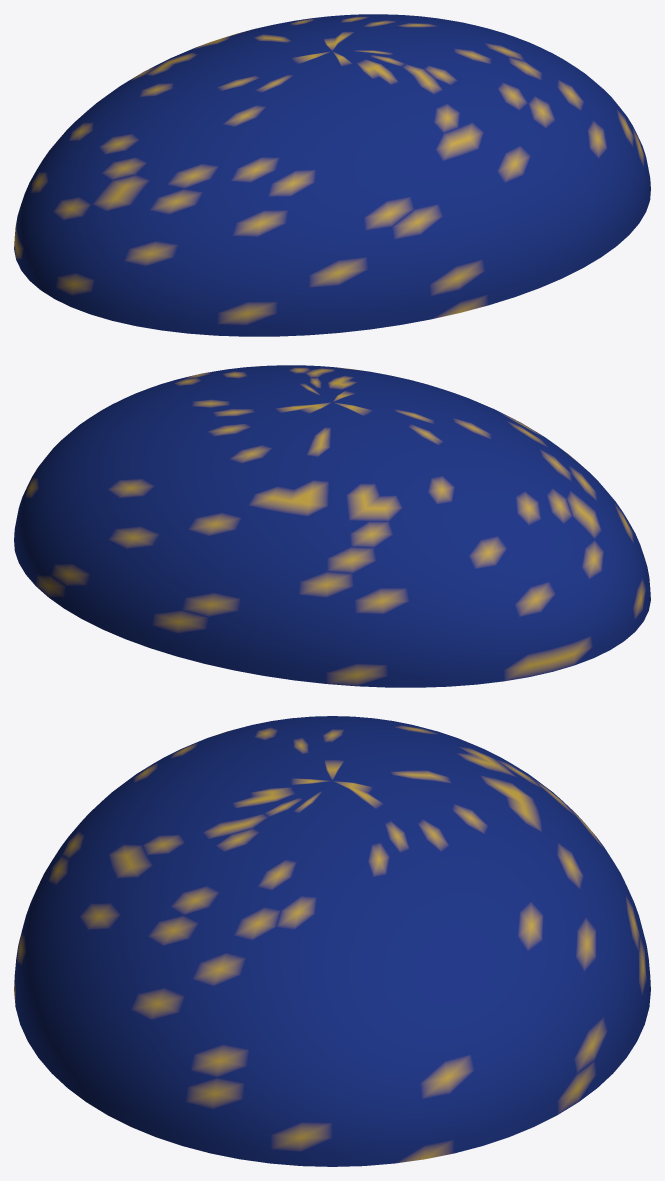
File: lapis.glb
3 views of the same model, one above another, from view 1: azimuth 30°, elevation 25°; view 2: azimuth 150°, elevation 25°; view 3: azimuth 270°, elevation 25° (orthographic). The views are drawn at different scales.
Parts seen in each view (by area): view 1: lapis; view 2: lapis; view 3: lapis.
Part boxes in pixels (left/top/right/bottom): lapis: left=14, top=14, right=650, bottom=336; lapis: left=14, top=365, right=650, bottom=687; lapis: left=14, top=716, right=650, bottom=1166.
Size of the model in its own units: 0.25 by 0.0688 by 0.19.
